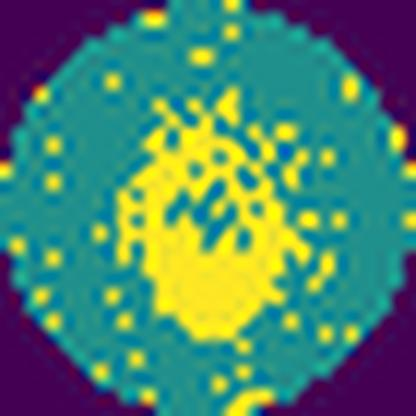Center: (112, 87, 313, 346)
